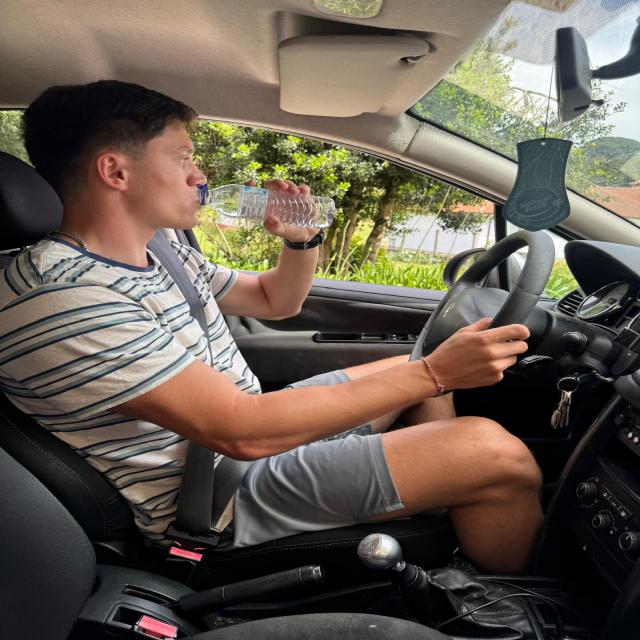Drinking: (192, 180, 340, 233)
Seatbelt: (143, 228, 258, 548)
